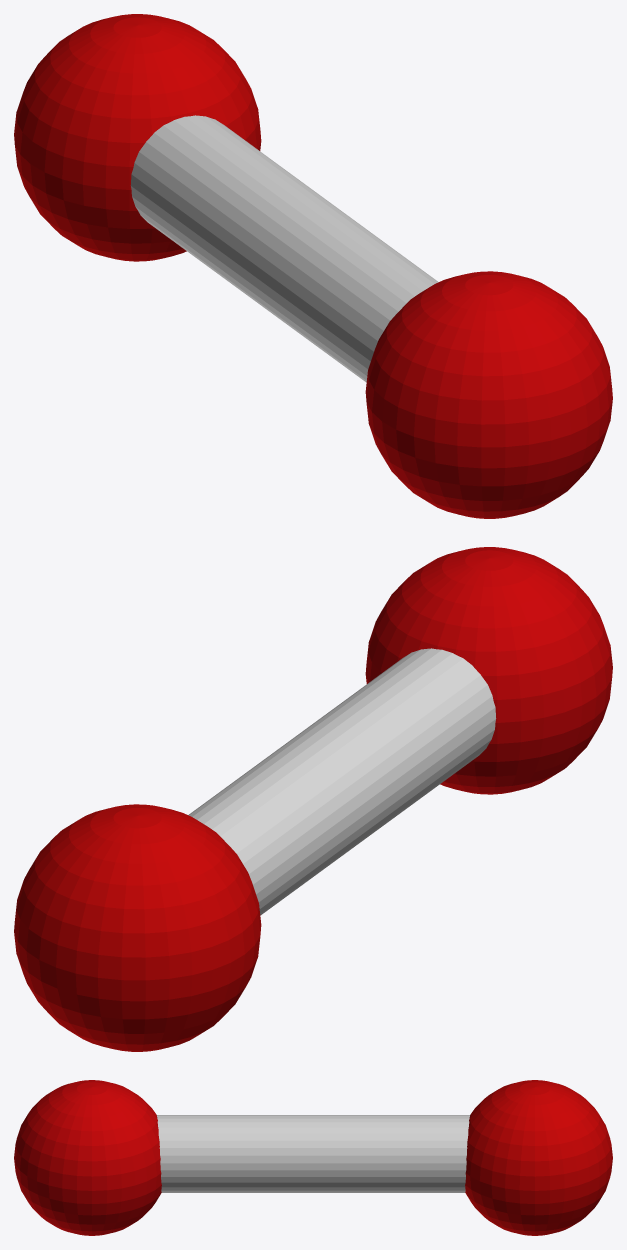
Rendered from Oxigeno.dae.
The picture shows the model from 3 angles, top to bottom: view 1: azimuth 30°, elevation 25°; view 2: azimuth 150°, elevation 25°; view 3: azimuth 270°, elevation 25°; orthographic projection. The views are drawn at different scales.
Visible parts, largest first — view 1: Sphere_006, Cylinder_004, Sphere_007; view 2: Sphere_007, Cylinder_004, Sphere_006; view 3: Cylinder_004, Sphere_006, Sphere_007.
Part boxes in pixels (left/top/right/bottom): Sphere_006: left=365, top=271, right=612, bottom=518; Cylinder_004: left=130, top=115, right=438, bottom=382; Sphere_007: left=14, top=14, right=261, bottom=261; Sphere_007: left=14, top=804, right=261, bottom=1051; Cylinder_004: left=188, top=648, right=496, bottom=915; Sphere_006: left=365, top=547, right=612, bottom=794; Cylinder_004: left=157, top=1115, right=469, bottom=1192; Sphere_006: left=14, top=1080, right=161, bottom=1235; Sphere_007: left=465, top=1080, right=612, bottom=1235.
Bounding box in the file's own units: 1.23 × 4.71 × 1.23.
